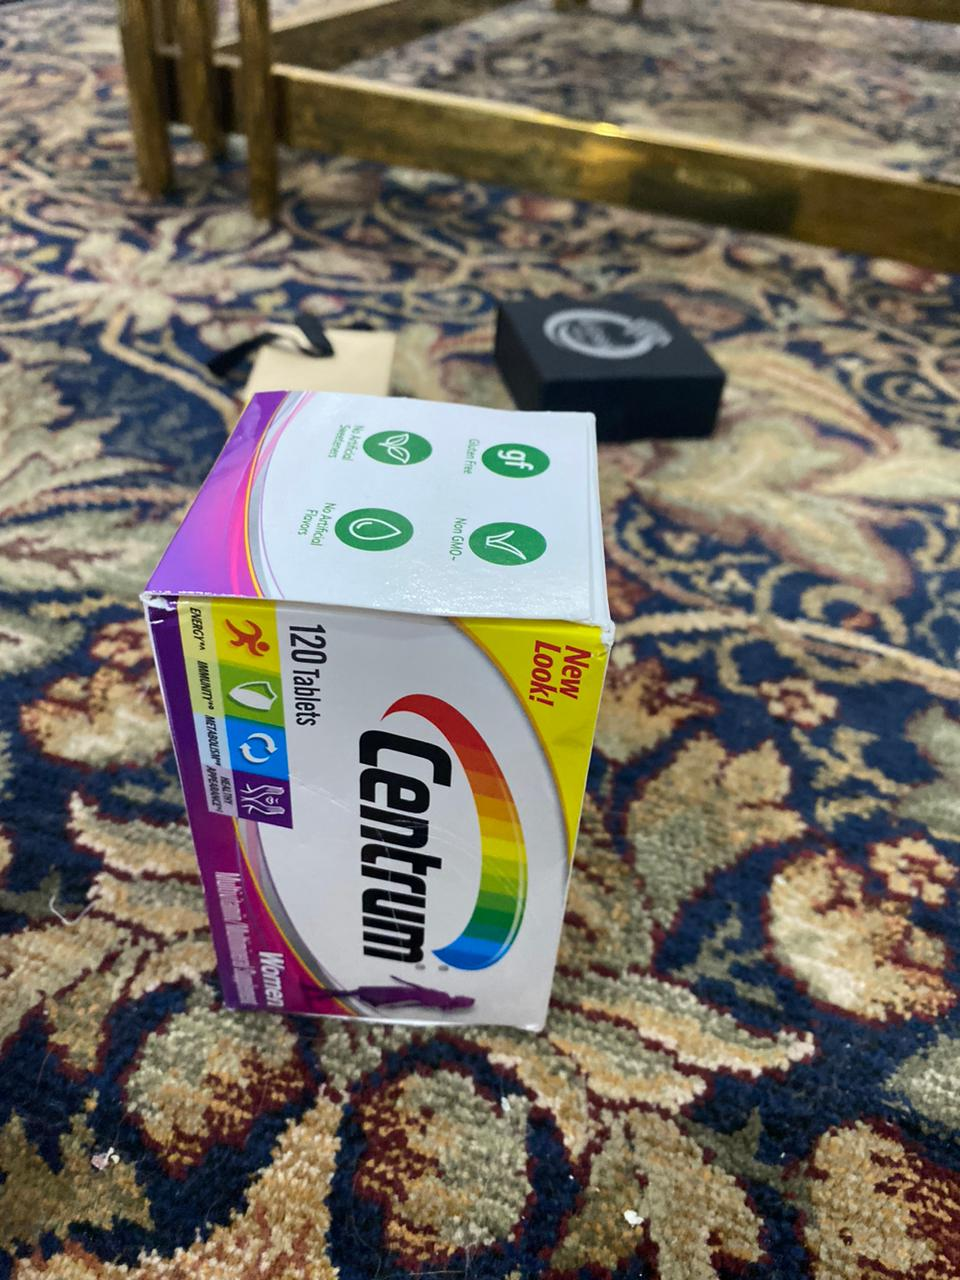Centrum: (135, 387, 614, 1039)
Red Box: (498, 293, 732, 446)
Yellow Box: (243, 319, 397, 418)
